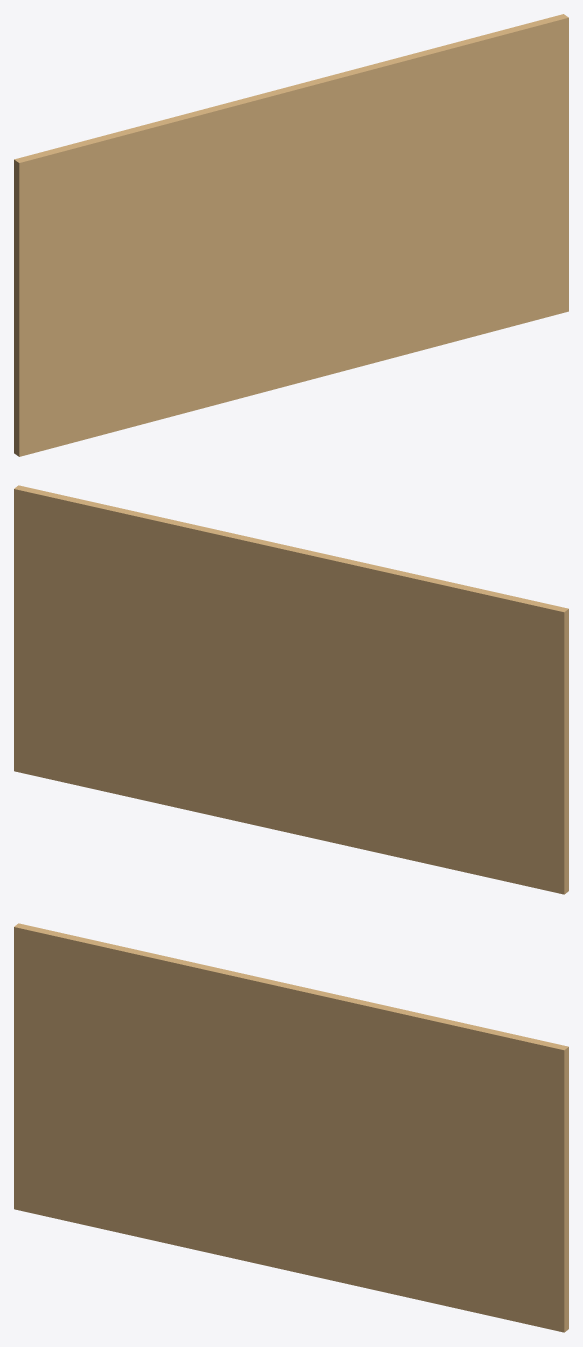
Rendered from canvasDemo.glb.
3 renders of one model, top to bottom at view 1: azimuth 30°, elevation 25°; view 2: azimuth 150°, elevation 25°; view 3: azimuth 330°, elevation 25°, orthographic. The views are drawn at different scales.
Visible parts, largest first — view 1: Cubo.329; view 2: Cubo.329; view 3: Cubo.329.
Part boxes in pixels (left/top/right/bottom): Cubo.329: left=14, top=14, right=568, bottom=456; Cubo.329: left=14, top=485, right=568, bottom=894; Cubo.329: left=14, top=923, right=568, bottom=1332.
Bounding box in the file's own units: 32 × 16 × 1.65.
Materials: 1 (1 with a texture image).
